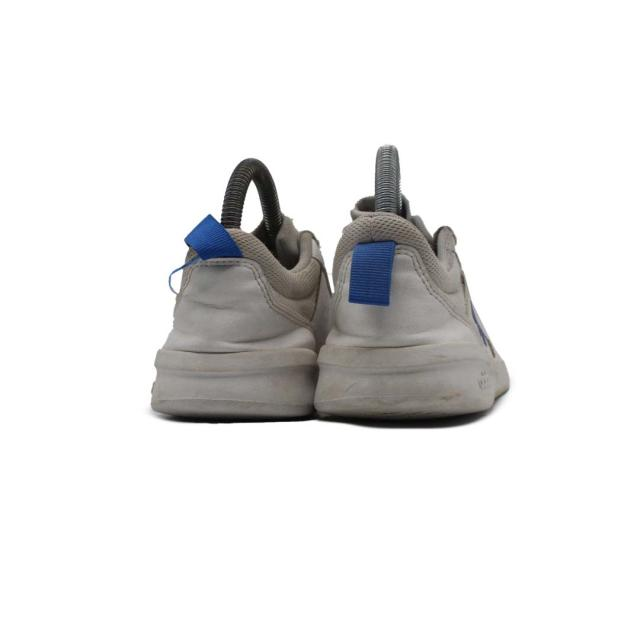heel: (162, 204, 305, 350), (334, 198, 466, 342)
midsole: (161, 346, 500, 418)
